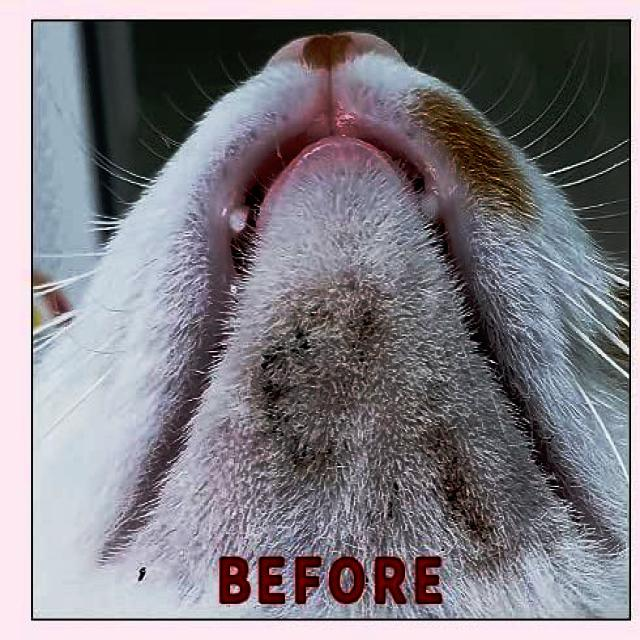acne: (255, 289, 517, 543)
